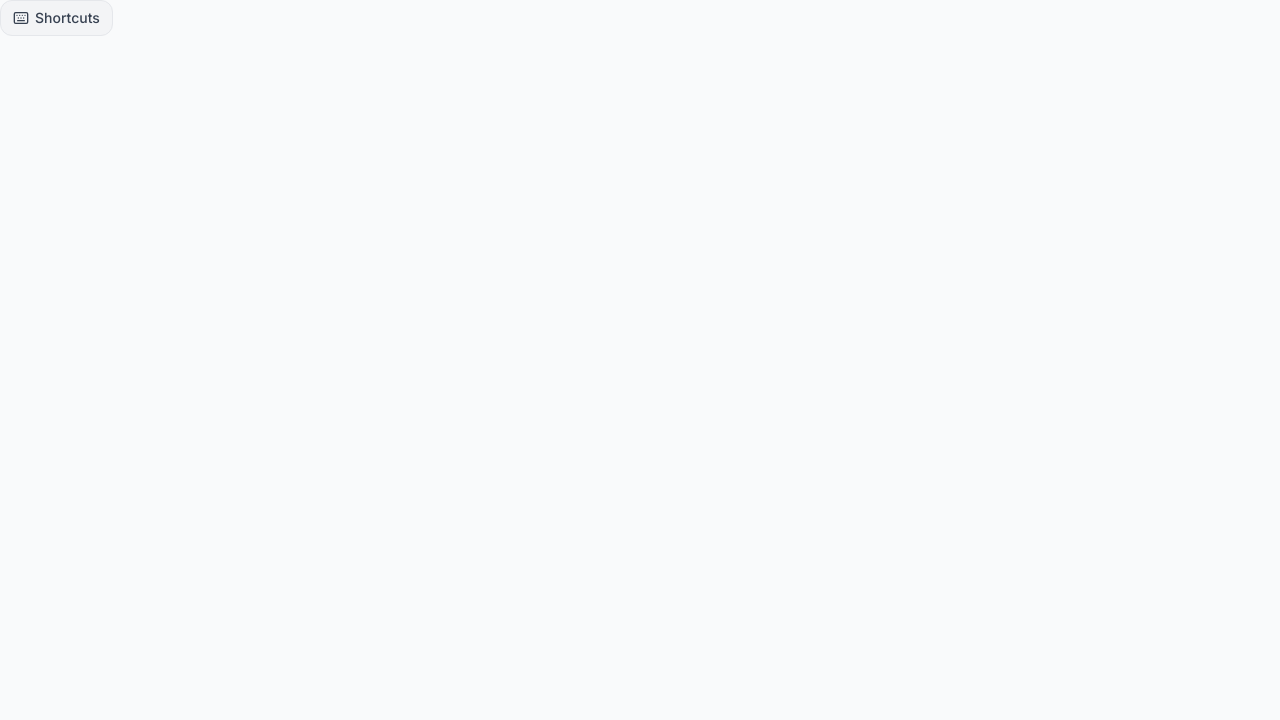
KeyboardShortcutsHelp › opens the modal when the trigger button is clicked
Click the button "Shortcuts".
click(56, 18)  # box [0,0,113,36]
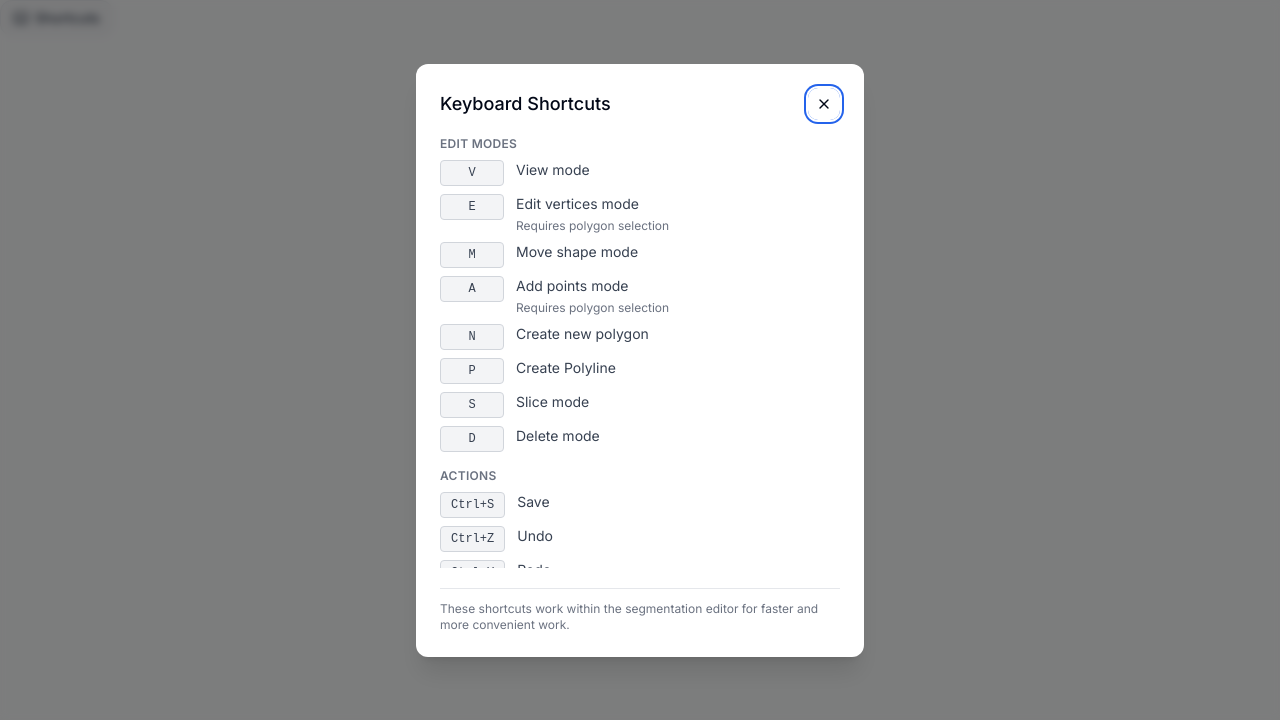
Expected: the heading "Keyboard Shortcuts" is shown, [440,90,611,118]
